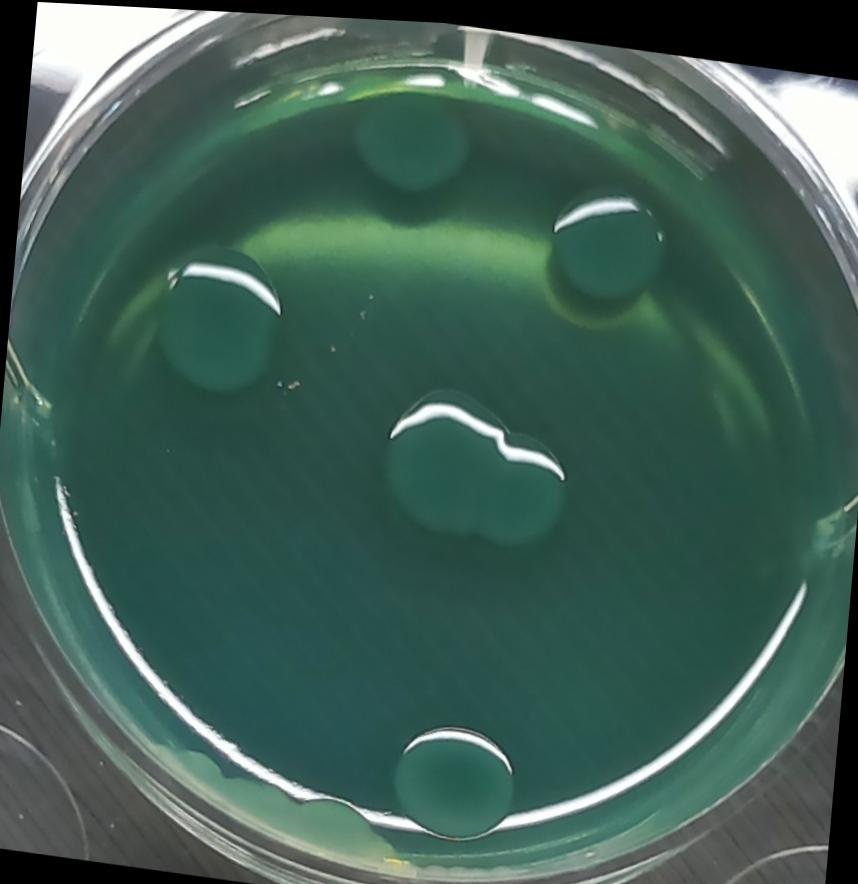vproteolyticus: (357, 376, 586, 587), (130, 231, 300, 407), (330, 60, 496, 236), (367, 699, 536, 856), (516, 174, 686, 325)
